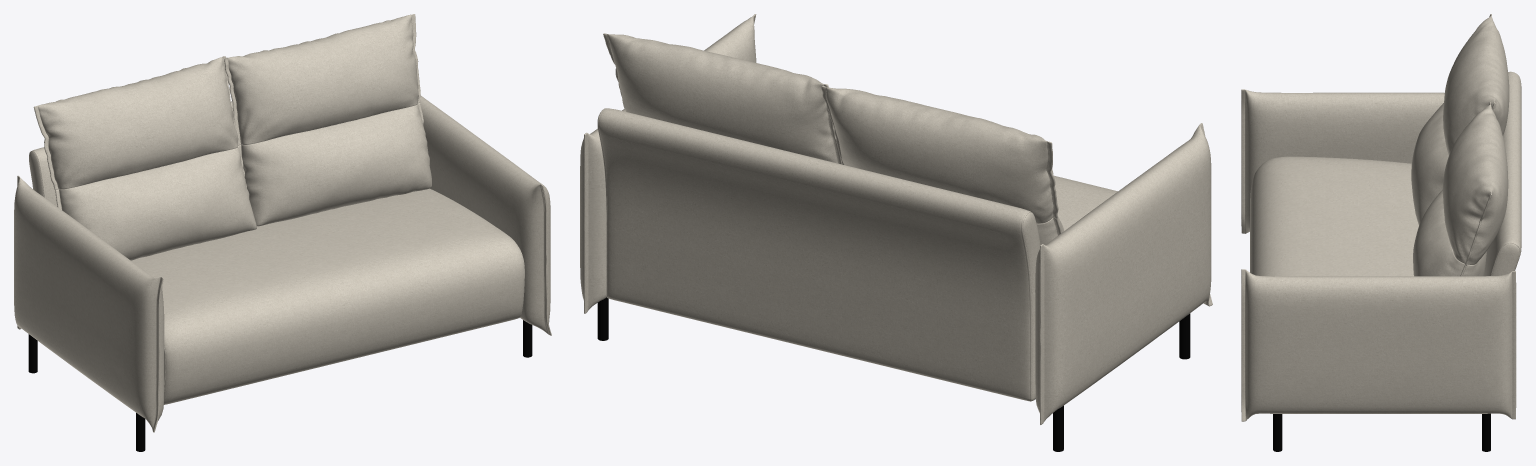
File: 22 - MANNARP - 雙人座沙發，Gunnared 米色 IKEA 線上購物.glb
The picture shows the model from 3 angles, left to right: view 1: azimuth 30°, elevation 25°; view 2: azimuth 150°, elevation 25°; view 3: azimuth 270°, elevation 25°; orthographic projection. The views are drawn at different scales.
Parts seen in each view (by area): view 1: 000, 002; view 2: 000, 002; view 3: 000, 002.
Boxes of the visible parts, x1,y1,x2,y2 form: 000: (14,14,551,432); 002: (28,320,532,451); 000: (580,14,1212,424); 002: (597,297,1190,451); 000: (1241,14,1521,421); 002: (1273,413,1490,451).
Bounding box in the file's own units: 1.58 × 0.9601 × 0.95.
2 materials, 1 textured.
